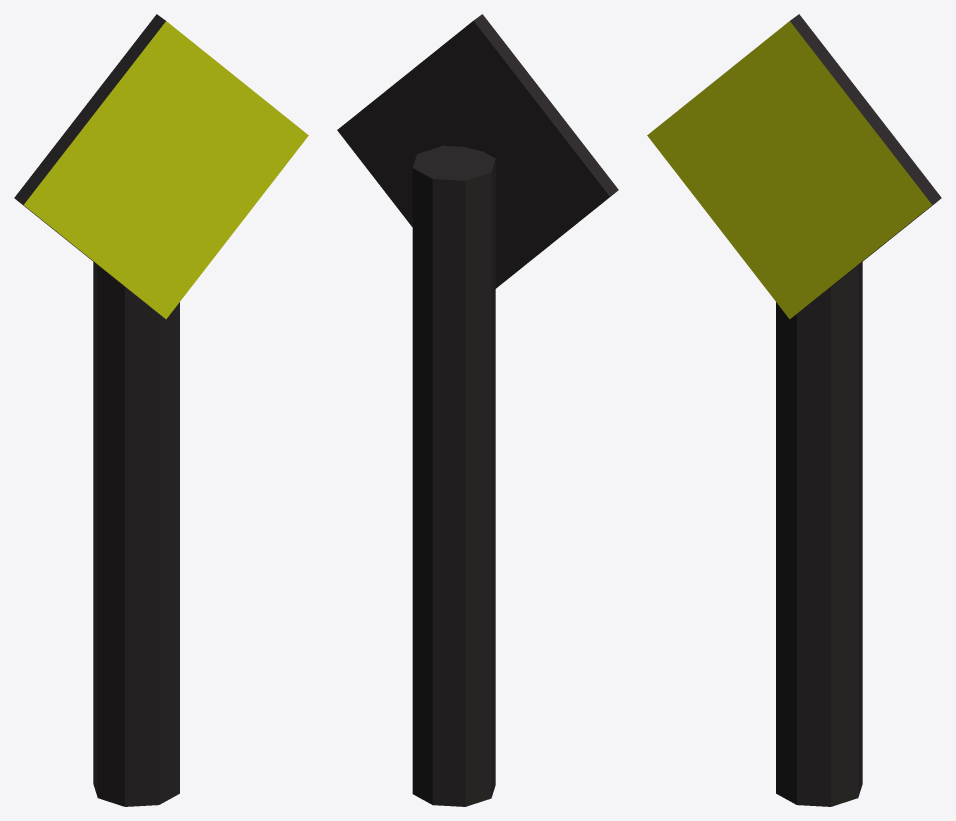
Rendered from placa_advertencia.fbx.
3 renders of one model, left to right at view 1: azimuth 30°, elevation 25°; view 2: azimuth 150°, elevation 25°; view 3: azimuth 330°, elevation 25°, orthographic. The views are drawn at different scales.
Parts seen in each view (by area): view 1: placa_advertencia; view 2: placa_advertencia; view 3: placa_advertencia.
Part boxes in pixels (box(x1,y1,x2,y2)): placa_advertencia: box(14, 14, 308, 806); placa_advertencia: box(337, 14, 618, 806); placa_advertencia: box(647, 14, 941, 806).
Size of the model in its own units: 61.64 by 163 by 19.48.
